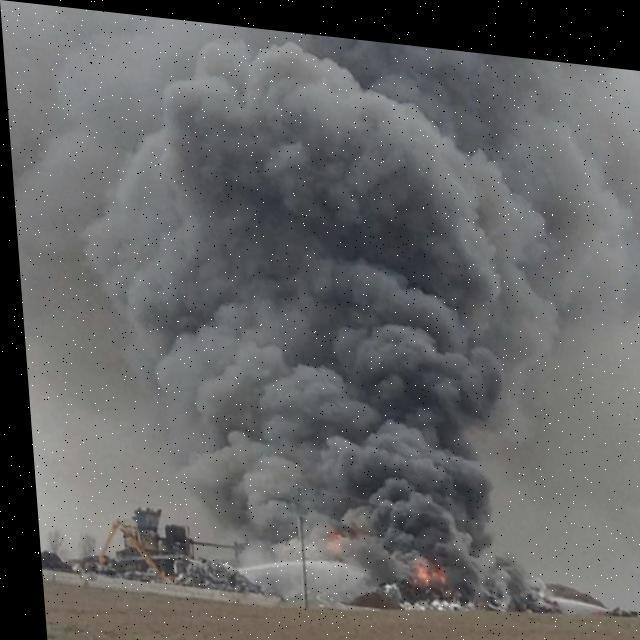Fire: (393, 540, 437, 582)
